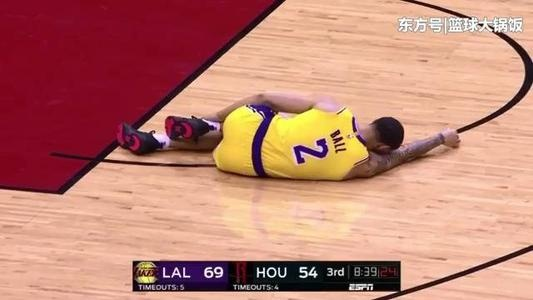falling: (112, 85, 465, 184)
